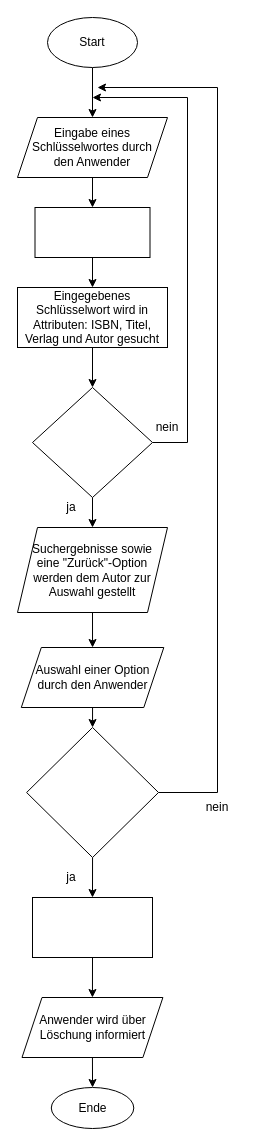
This 255x1146 diagram has some shape labels left out. Here are the shapes that lost their labels. From the top down, the box of each, then its label:
(34, 206, 150, 258): Bücherdatenbank wird aufgerufen
(32, 386, 152, 498): Gibt es mind. ein Such- ergebnis?
(26, 726, 158, 858): Wurde ein Buch aus dem Suchergebnis ausgewählt?
(32, 896, 152, 958): Ausgewähltes Buch wird aus der Bücherdatenbank entfernt
